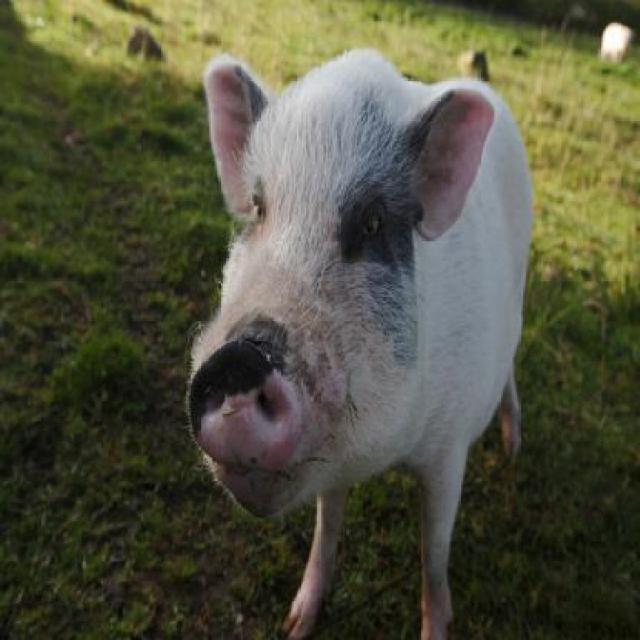pig: (183, 45, 532, 639), (598, 23, 637, 63)
